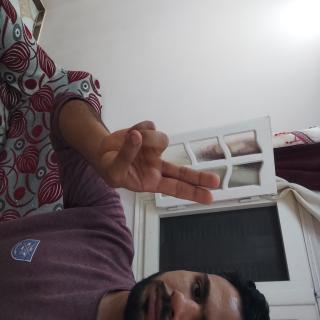TA: (89, 128, 163, 315)
